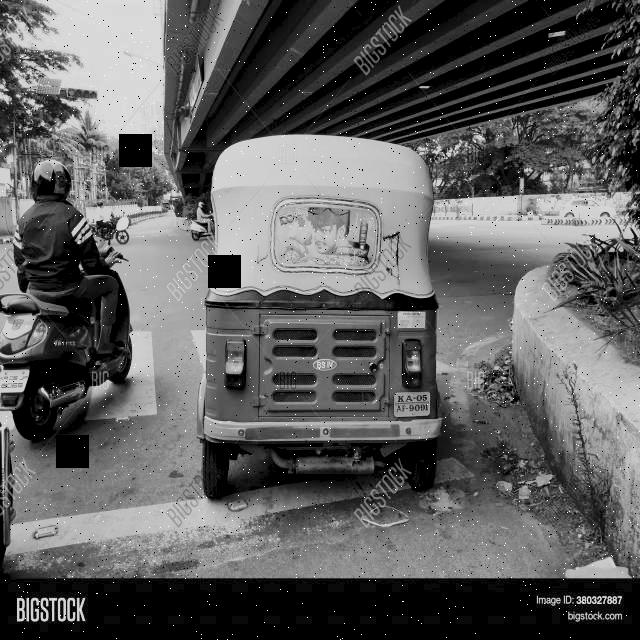Auto-Rickshaw: (174, 114, 470, 508)
